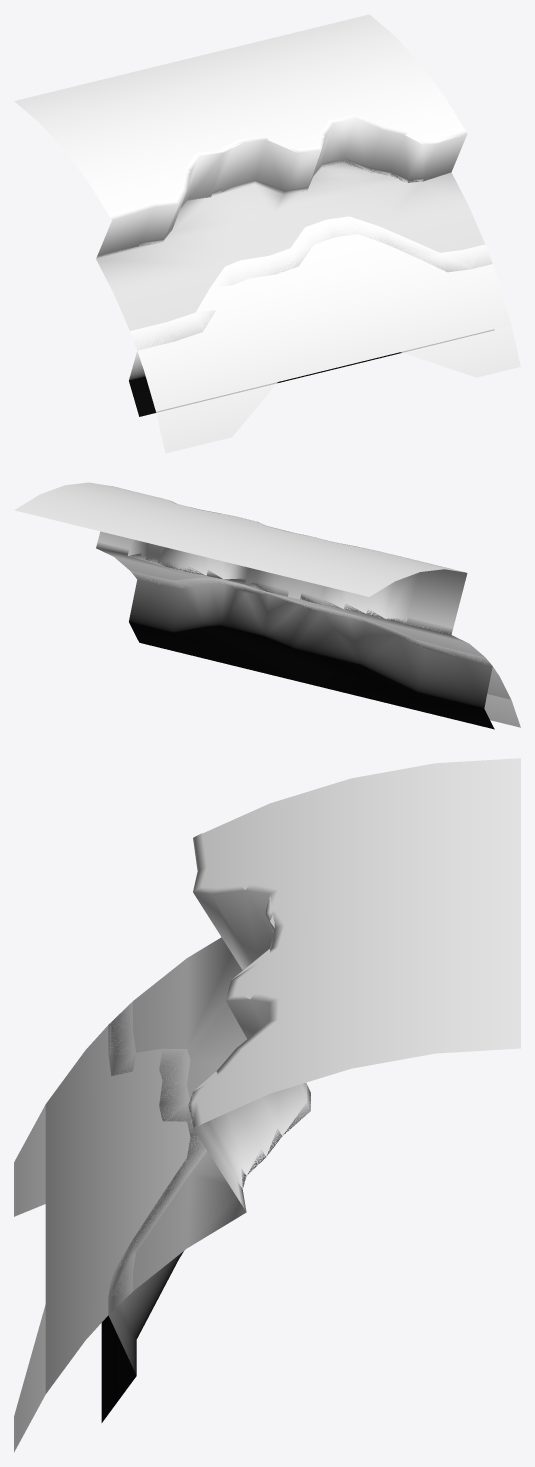
The model's file is grd_Ms_1.dae.
3 renders of one model, top to bottom at view 1: azimuth 30°, elevation 25°; view 2: azimuth 150°, elevation 25°; view 3: azimuth 270°, elevation 25°, orthographic. The views are drawn at different scales.
Parts seen in each view (by area): view 1: grass_3_0, ocean_4_0, beach_0_0, wave_5_0, cliff_2_0, beach_1_0; view 2: beach_1_0, grass_3_0, cliff_2_0, beach_0_0, wave_5_0, ocean_4_0; view 3: grass_3_0, ocean_4_0, wave_5_0, beach_0_0, cliff_2_0, beach_1_0.
Boxes of the visible parts, x1=… form: grass_3_0: x1=14, y1=14, x2=464, y2=216; ocean_4_0: x1=131, y1=217, x2=511, y2=411; beach_0_0: x1=96, y1=158, x2=485, y2=330; wave_5_0: x1=130, y1=234, x2=520, y2=453; cliff_2_0: x1=97, y1=114, x2=467, y2=256; beach_1_0: x1=129, y1=216, x2=493, y2=416; beach_1_0: x1=129, y1=570, x2=494, y2=729; grass_3_0: x1=14, y1=482, x2=465, y2=596; cliff_2_0: x1=97, y1=487, x2=467, y2=633; beach_0_0: x1=96, y1=542, x2=484, y2=657; wave_5_0: x1=275, y1=596, x2=520, y2=727; ocean_4_0: x1=138, y1=573, x2=510, y2=699; grass_3_0: x1=188, y1=758, x2=520, y2=1125; ocean_4_0: x1=45, y1=1007, x2=204, y2=1393; wave_5_0: x1=14, y1=1001, x2=189, y2=1452; beach_0_0: x1=133, y1=937, x2=310, y2=1290; cliff_2_0: x1=188, y1=833, x2=310, y2=1202; beach_1_0: x1=101, y1=1001, x2=206, y2=1422.
Size of the model in its own units: 512 by 332 by 378.
6 materials, 1 textured.
